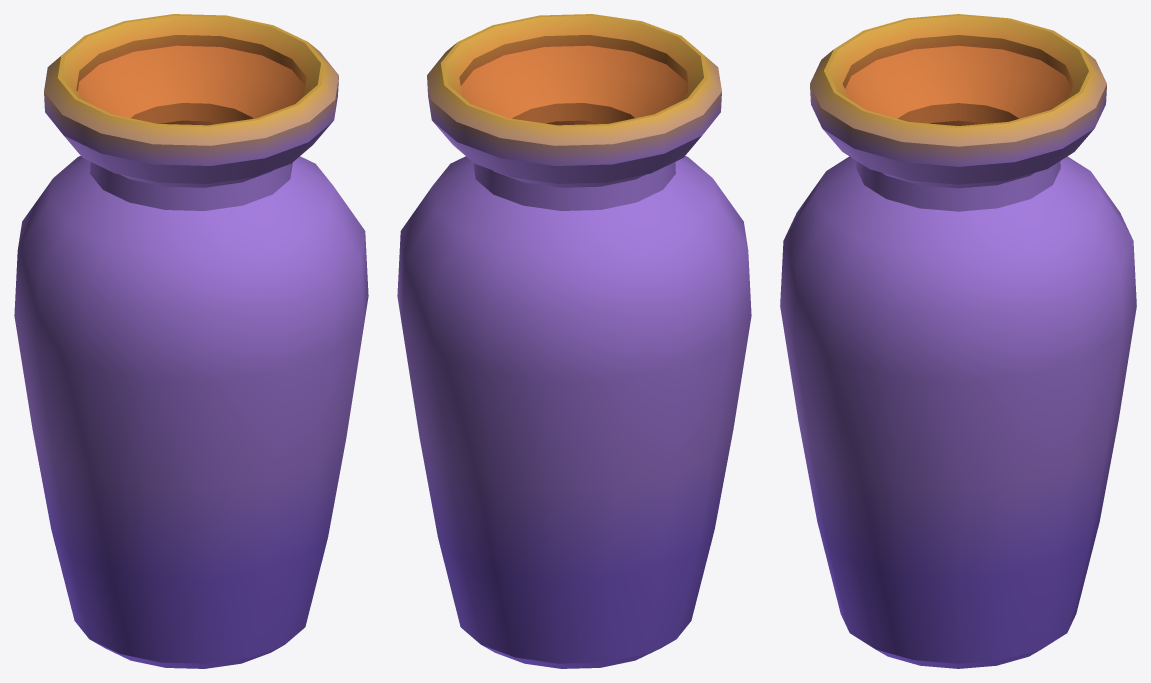
The model's file is Vase.fbx.
The picture shows the model from 3 angles, left to right: view 1: azimuth 30°, elevation 25°; view 2: azimuth 150°, elevation 25°; view 3: azimuth 270°, elevation 25°; orthographic projection.
Parts seen in each view (by area): view 1: Vase; view 2: Vase; view 3: Vase.
Boxes of the visible parts, x1,y1,x2,y2 form: Vase: [14, 14, 368, 668]; Vase: [397, 14, 751, 668]; Vase: [780, 14, 1136, 668].
Size of the model in its own units: 74.63 by 128 by 74.63.
